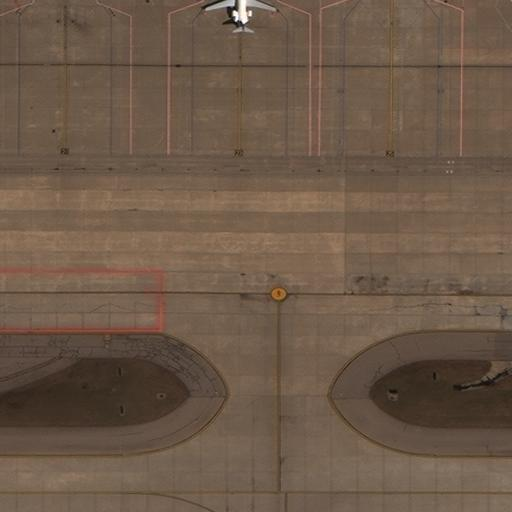Medium Civil Transport: (205, 0, 275, 32)
